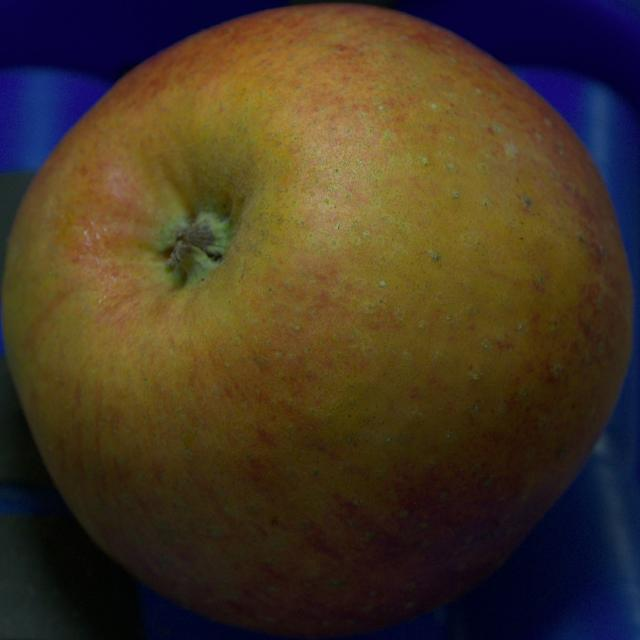apple: (1, 5, 633, 637)
